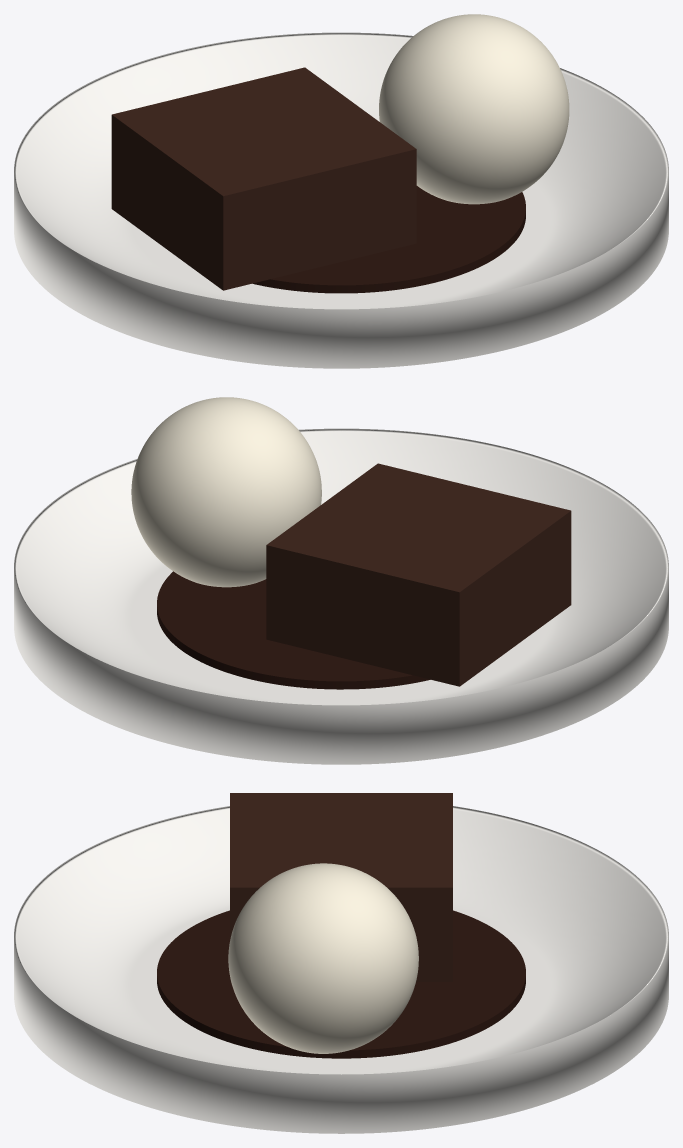
The model's file is sobremesa-2-hero.glb.
3 views of the same model, one above another, from view 1: azimuth 30°, elevation 25°; view 2: azimuth 150°, elevation 25°; view 3: azimuth 270°, elevation 25° (orthographic).
Bounding box in the file's own units: 0.22 × 0.068 × 0.22.
